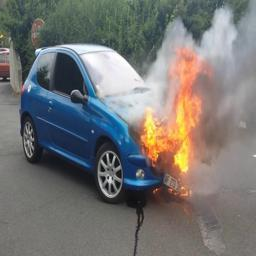fire: (142, 47, 212, 174)
